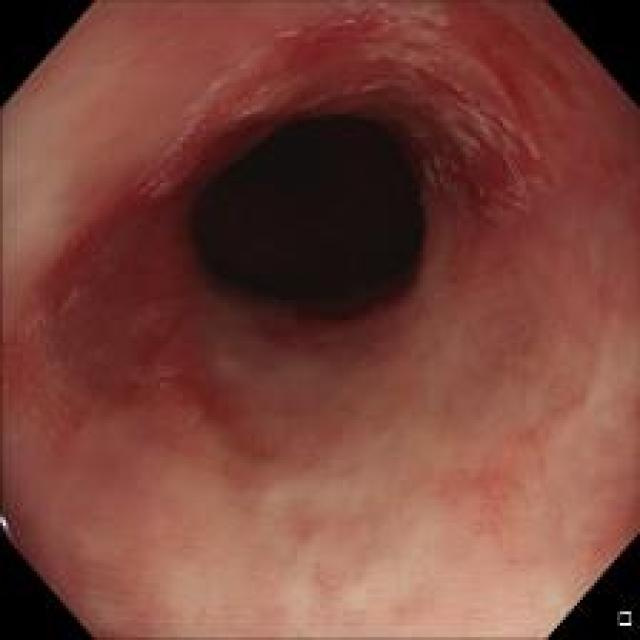blur: (5, 235, 636, 638)
contrast: (176, 102, 435, 331)
